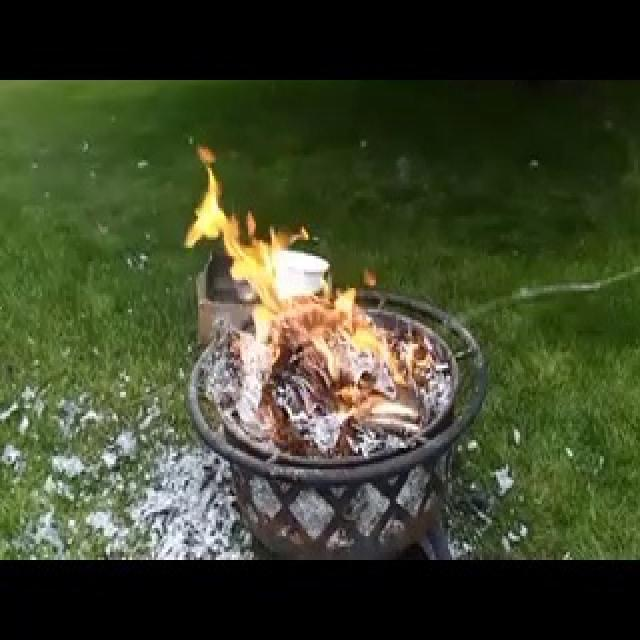fire: (189, 134, 415, 460)
